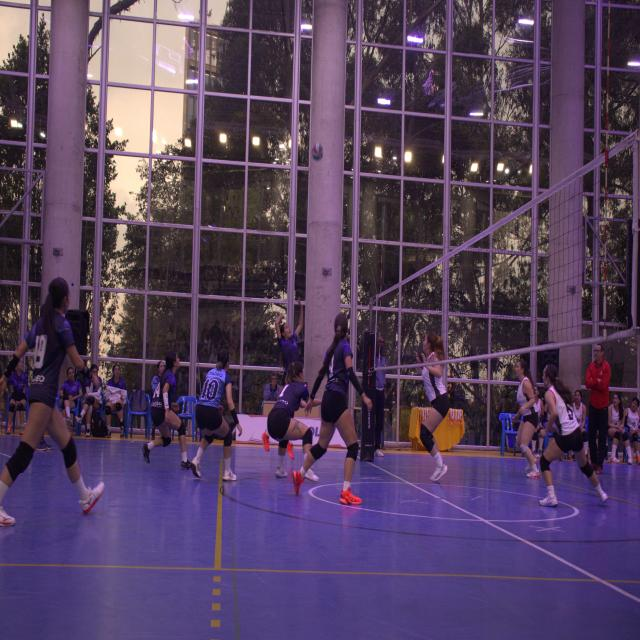volleyball: (312, 142, 324, 160)
